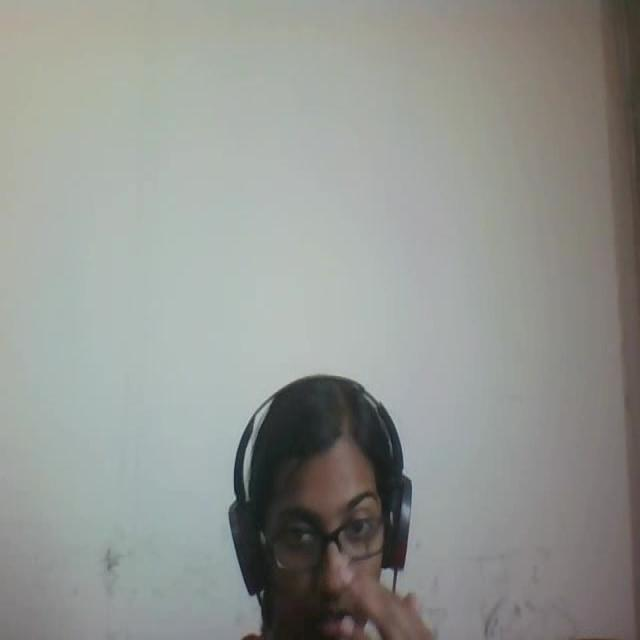Bored: (207, 357, 461, 640)
